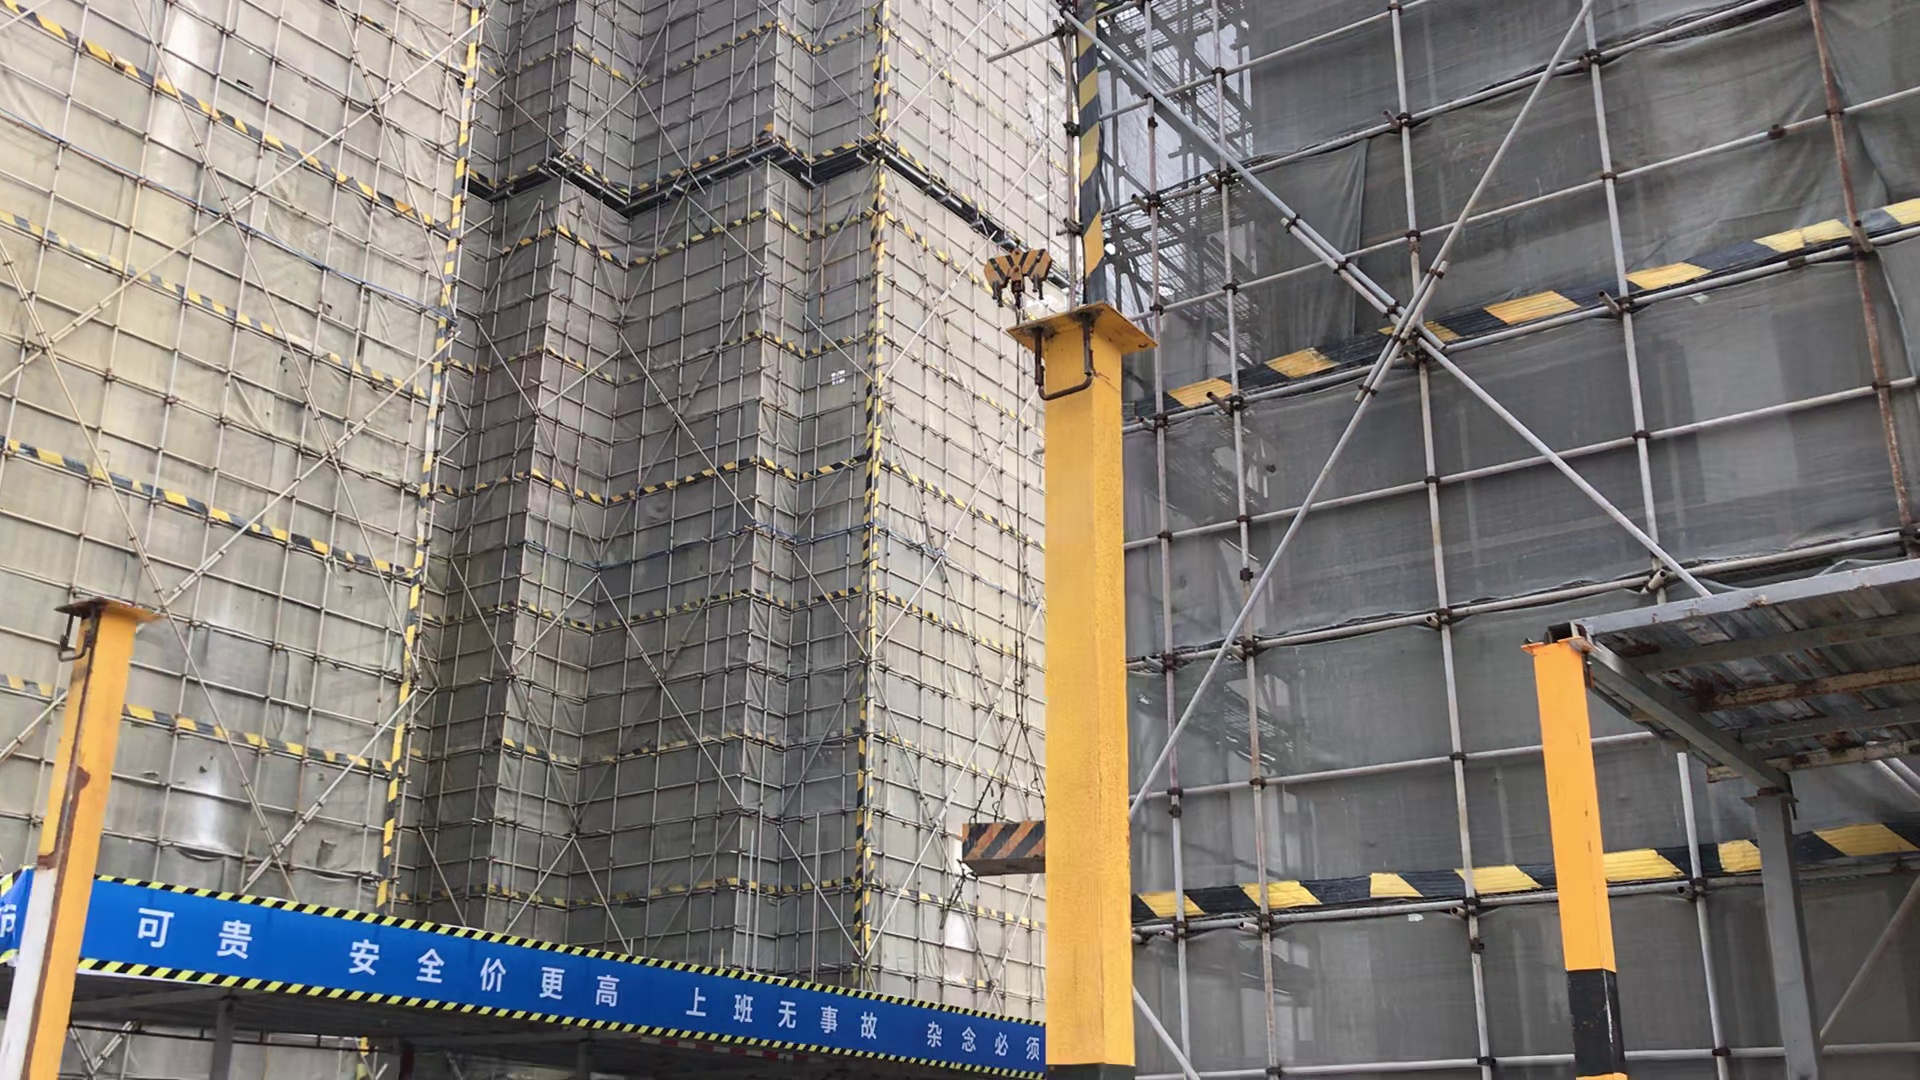hook: (982, 224, 1060, 309)
hopper: (959, 804, 1044, 880)
slogan: (42, 851, 1044, 1069)
